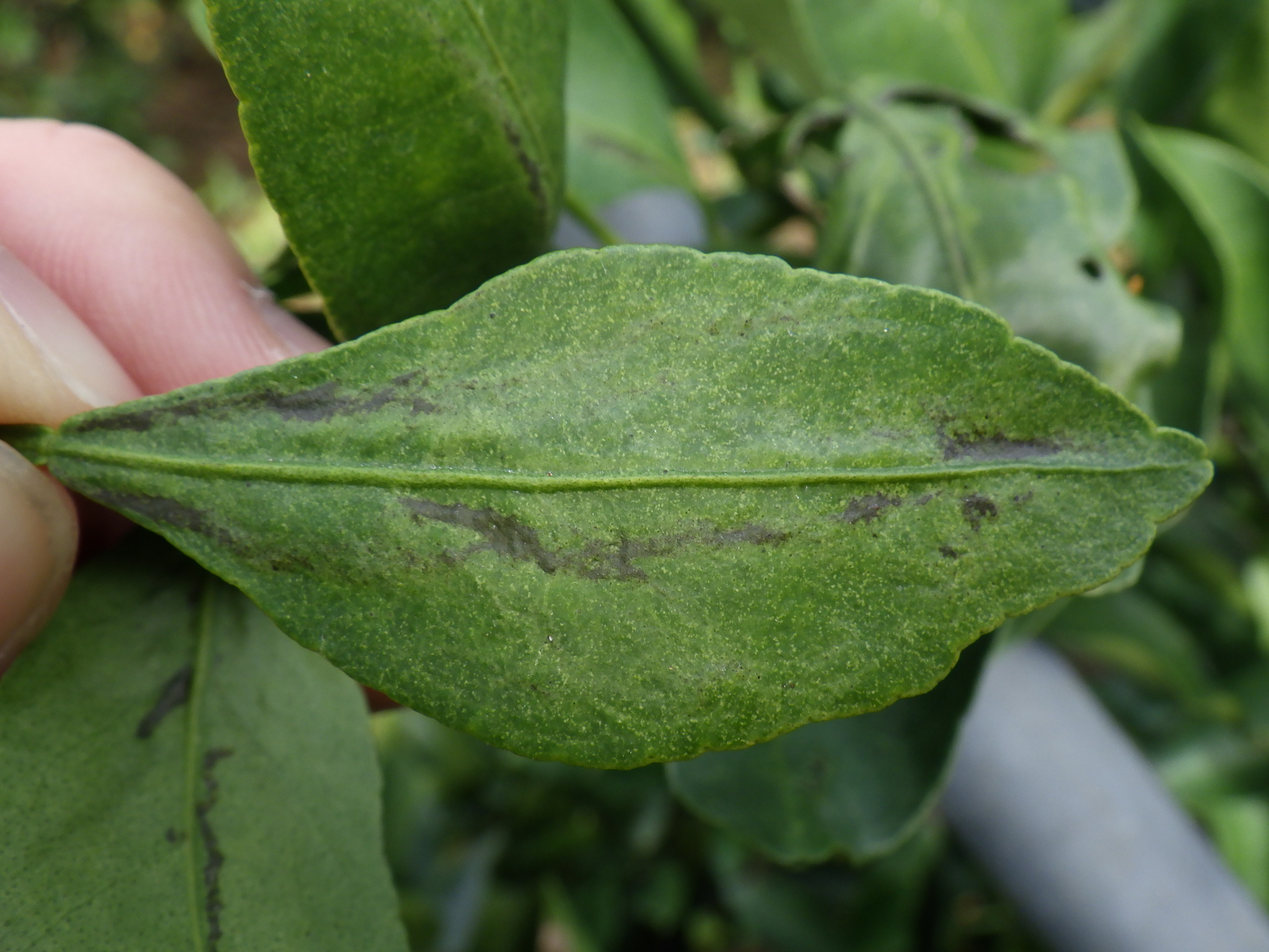Thrips_Damage: (105, 372, 1061, 582)
